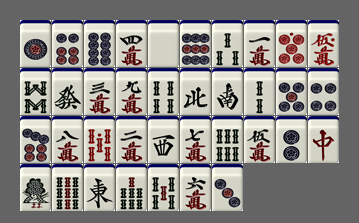0m: (308, 20, 339, 67)
0p: (276, 20, 307, 67)
0s: (84, 116, 115, 163)
1m: (244, 20, 275, 67)
1p: (20, 20, 51, 67)
1s: (20, 164, 51, 211)
1z: (84, 164, 115, 211)
2m: (116, 116, 147, 163)
2p: (276, 116, 307, 163)
2s: (244, 68, 275, 115)
2z: (212, 68, 243, 115)
3m: (84, 68, 115, 115)
3p: (212, 164, 243, 211)
3s: (212, 20, 243, 67)
3z: (148, 116, 179, 163)
4m: (116, 20, 147, 67)
4p: (308, 68, 339, 115)
4s: (148, 68, 179, 115)
4z: (180, 68, 211, 115)
5m: (244, 116, 275, 163)
5p: (276, 68, 307, 115)
5s: (148, 164, 179, 211)
5z: (148, 20, 179, 67)
6m: (180, 164, 211, 211)
6p: (52, 20, 83, 67)
6s: (212, 116, 243, 163)
6z: (52, 68, 83, 115)
7m: (180, 116, 211, 163)
7p: (20, 116, 51, 163)
7s: (116, 164, 147, 211)
7z: (308, 116, 339, 163)
8m: (52, 116, 83, 163)
8p: (84, 20, 115, 67)
8s: (20, 68, 51, 115)
9m: (116, 68, 147, 115)
9p: (180, 20, 211, 67)
9s: (52, 164, 83, 211)
